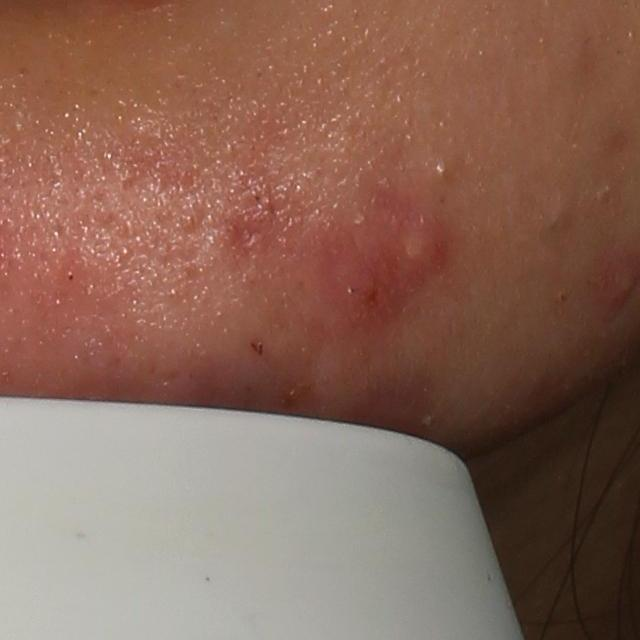comedo: (541, 193, 574, 240), (430, 156, 457, 182)
papule: (333, 257, 387, 319), (400, 220, 442, 273)
